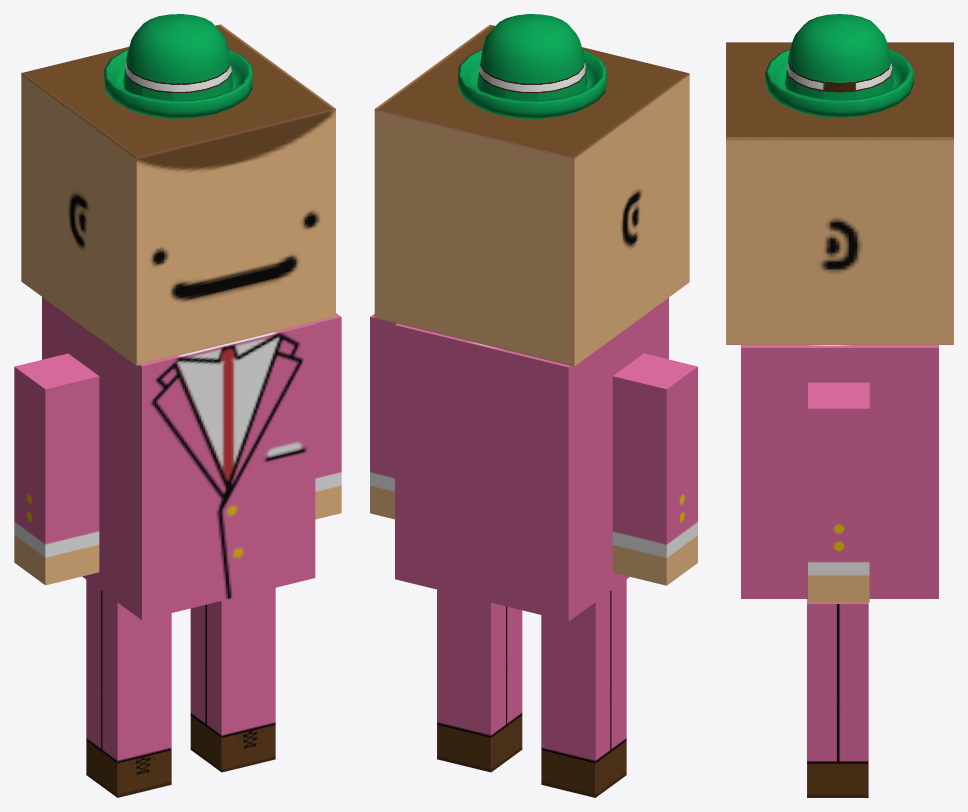
File: cubeMan.fbx
3 renders of one model, left to right at view 1: azimuth 30°, elevation 25°; view 2: azimuth 150°, elevation 25°; view 3: azimuth 270°, elevation 25°, orthographic.
Visible parts, largest first — view 1: head, chest, rightArm, rightLeg, leftLeg, hat, leftArm; view 2: head, chest, rightArm, rightLeg, leftLeg, hat, leftArm; view 3: head, chest, leftArm, leftLeg, hat.
Boxes of the visible parts, box(x1,y1,x2,y2) form: head: box(21, 24, 335, 365); chest: box(42, 297, 315, 620); rightArm: box(14, 353, 99, 585); rightLeg: box(86, 580, 171, 797); leftLeg: box(190, 588, 275, 772); hat: box(104, 14, 252, 118); leftArm: box(314, 313, 341, 519); head: box(374, 24, 689, 366); chest: box(395, 297, 668, 621); rightArm: box(612, 353, 697, 585); rightLeg: box(541, 579, 626, 797); leftLeg: box(437, 589, 522, 772); hat: box(458, 14, 606, 118); leftArm: box(370, 314, 396, 519); head: box(726, 42, 953, 344); chest: box(741, 345, 938, 598); leftArm: box(808, 382, 869, 602); leftLeg: box(807, 599, 868, 797); hat: box(765, 14, 913, 117).
Bounding box in the file's own units: 5.49 × 13.21 × 3.7.
2 materials, 2 textured.
